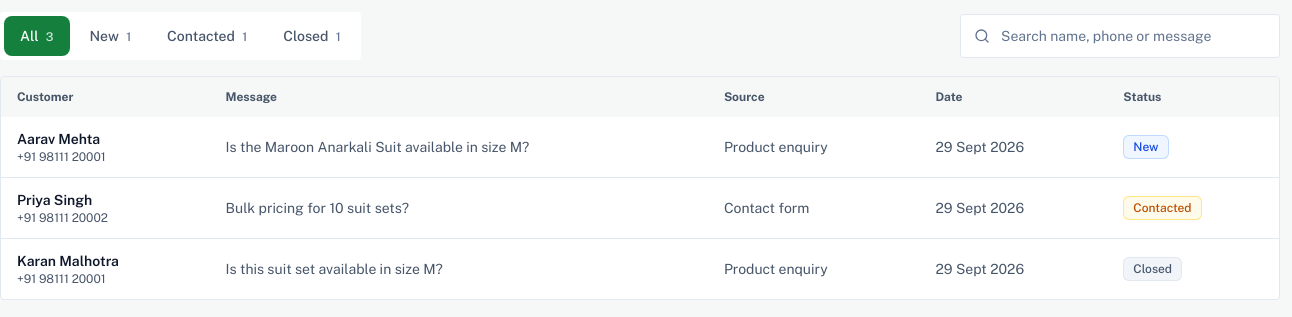
Test: <EnquiryAdmin /> › searches name, phone and message
Type "bulk pricing" into the field named "Search enquiries" at x=1120, y=36, box x1=960 y1=14 x2=1280 y2=58
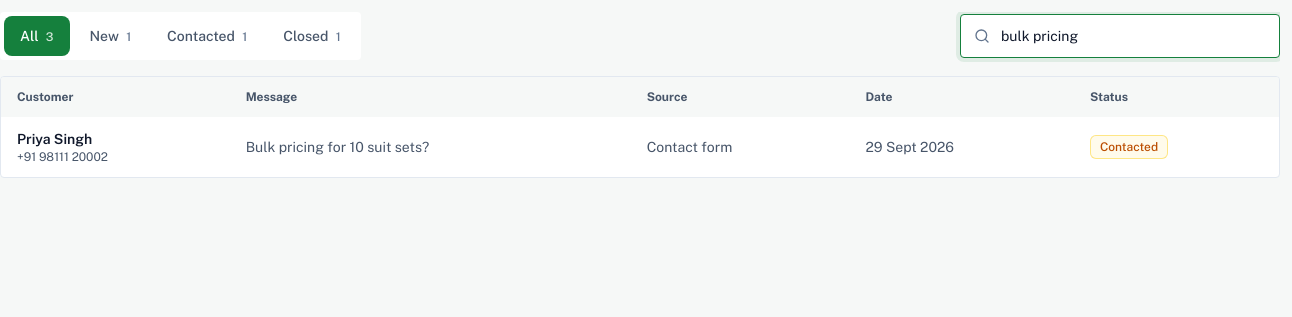
Check: the text "Priya Singh" is shown, box x1=17 y1=131 x2=92 y2=147
Check: the text "Karan Malhotra" is gone
